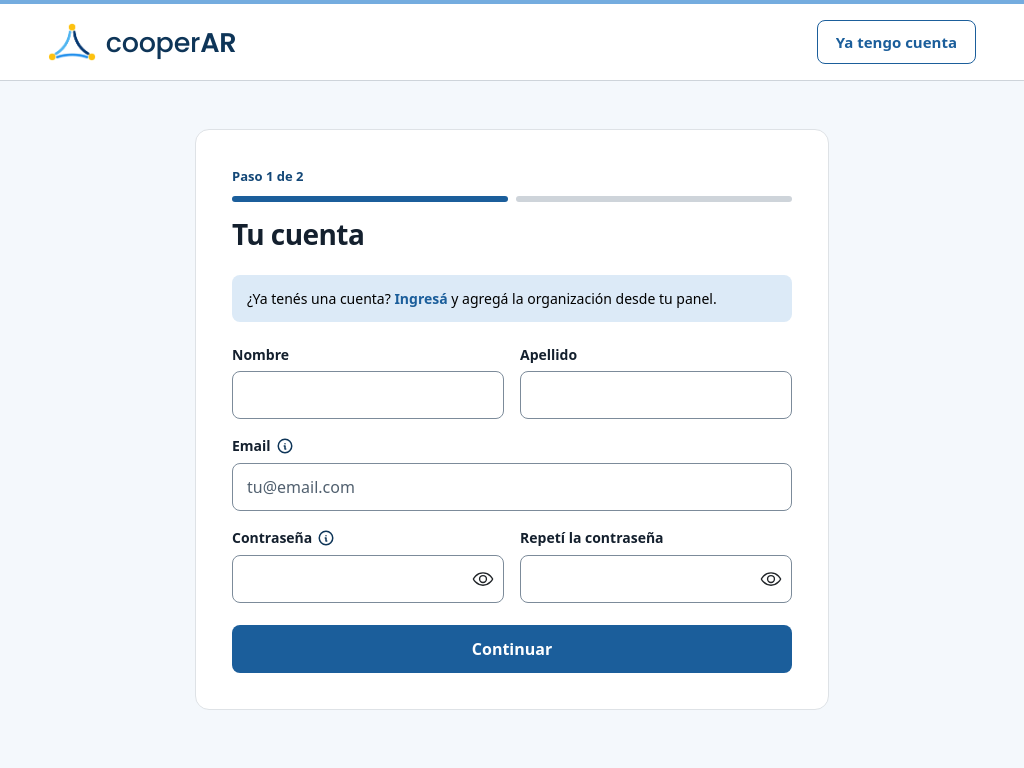
Test case: registration › asks for a well-formed email and matching passwords
Type "ana@coop" into the field labelled "Email" at {"x": 512, "y": 487}, box [232,463,792,511]
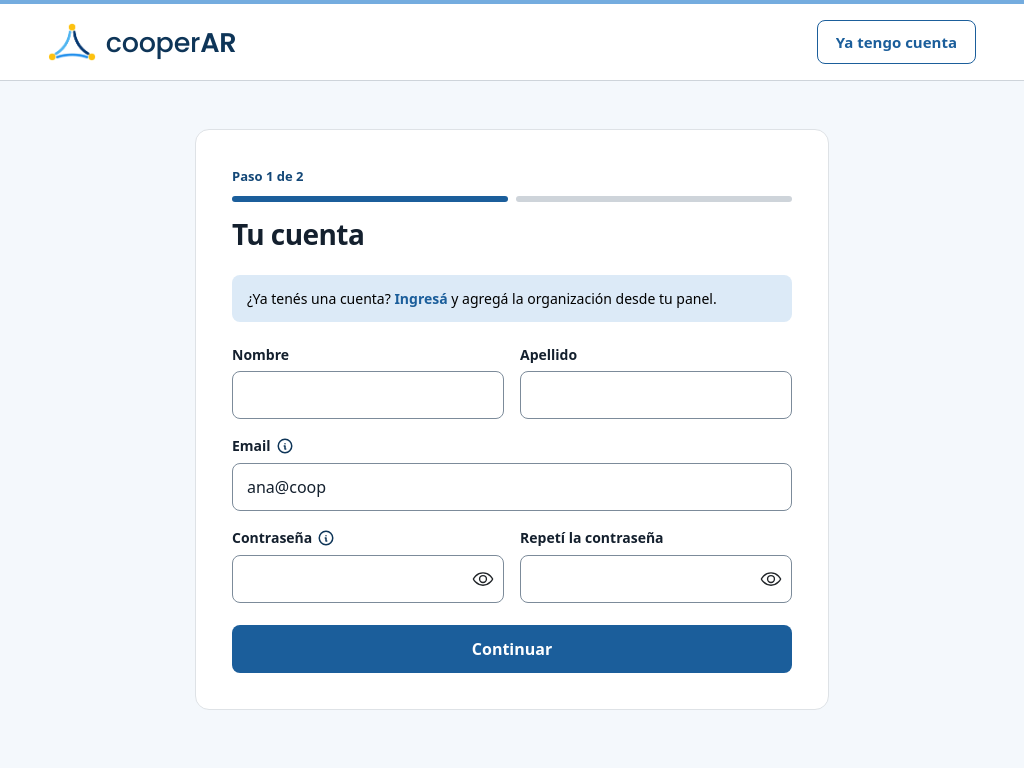
Type "secret-password" into the password field labelled "Contraseña" at {"x": 368, "y": 579}, box [233,556,503,602]
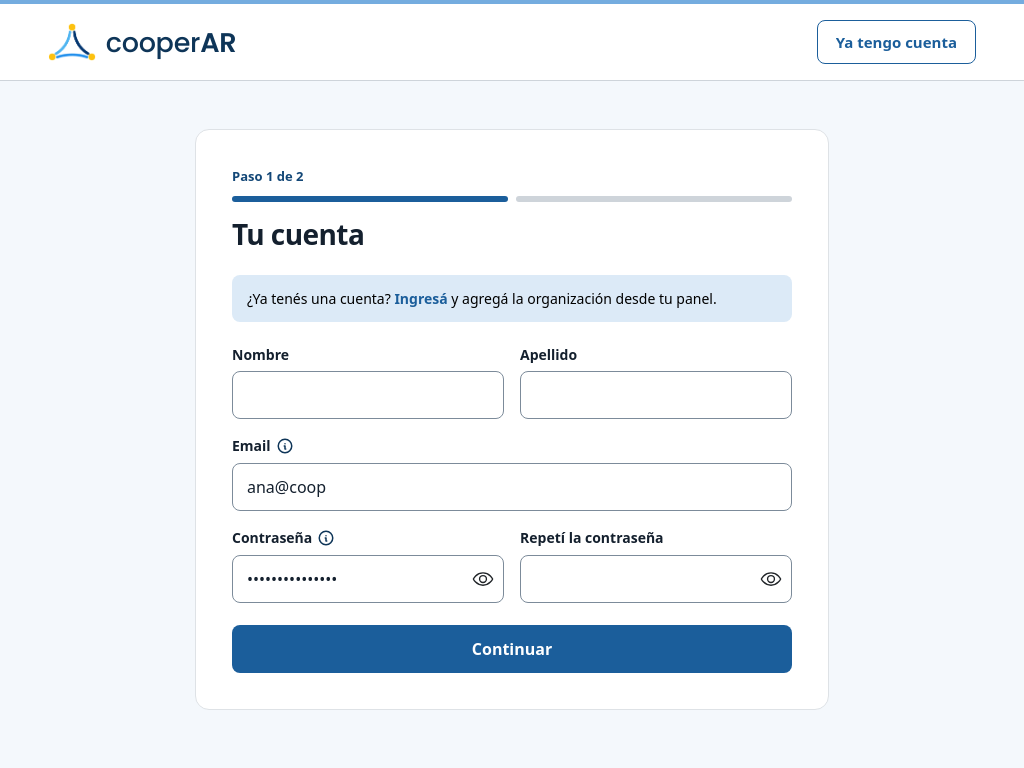
Type "other-password" into the password field labelled "Repetí la contraseña" at {"x": 656, "y": 579}, box [521,556,791,602]
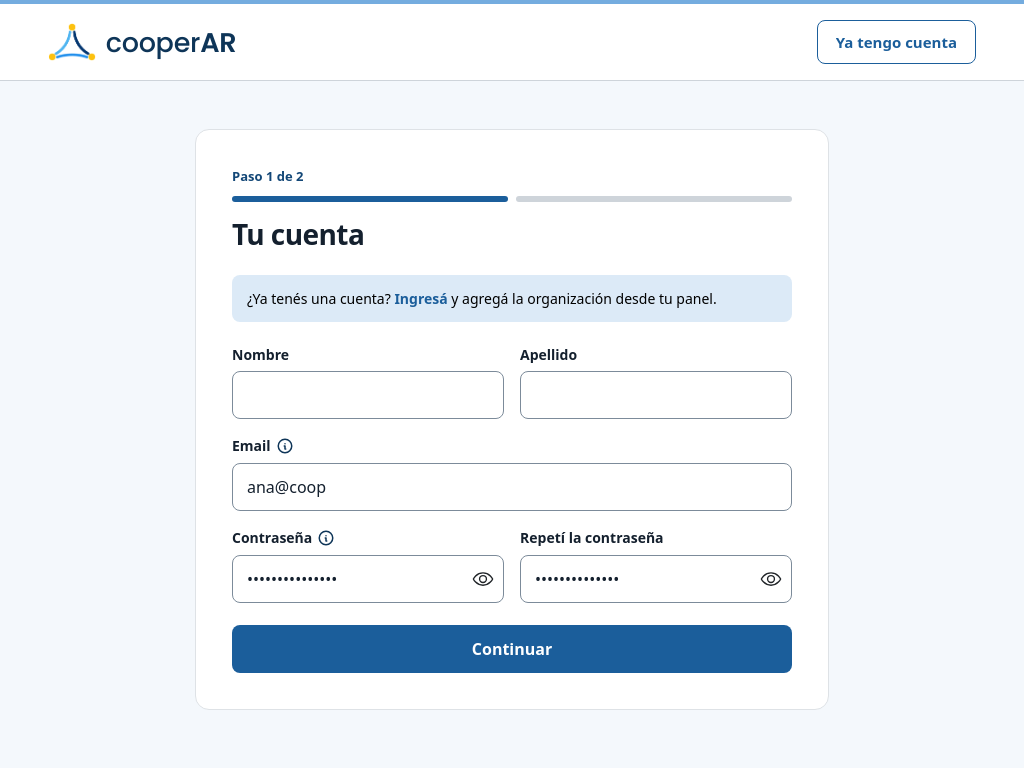
Click the button "Continuar" at {"x": 512, "y": 649}, box [232,625,792,673]
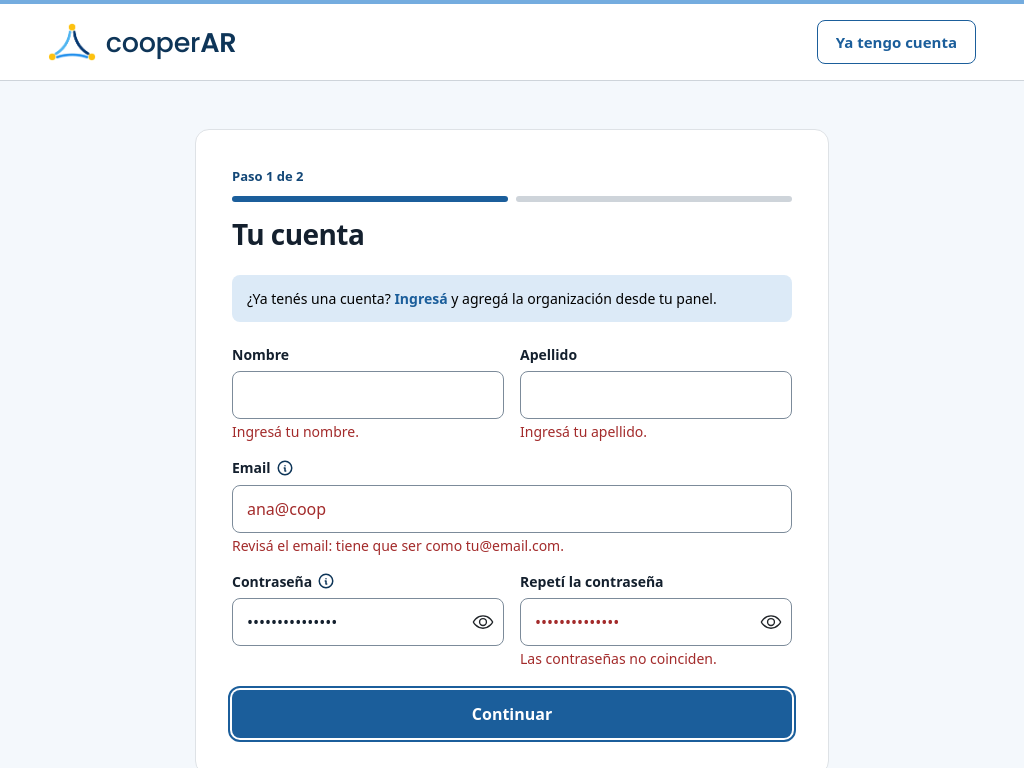
Now the text "Revisá el email: tiene que ser como tu@email.com." is shown, box [232,536,564,555]
Now the text "Las contraseñas no coinciden." is shown, box [520,649,717,668]
